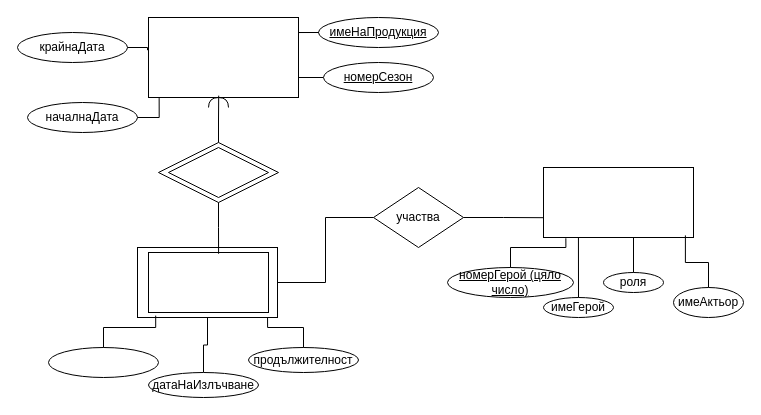
This 761x415 diagram has some shape labels left out. Each missing label, with the box of its shape:
Герои: (542, 166, 694, 238)
Епизоди: (148, 252, 268, 312)
номерЕпизод: (48, 346, 158, 378)
Сезони: (148, 16, 298, 98)
съдържа: (168, 146, 268, 198)
